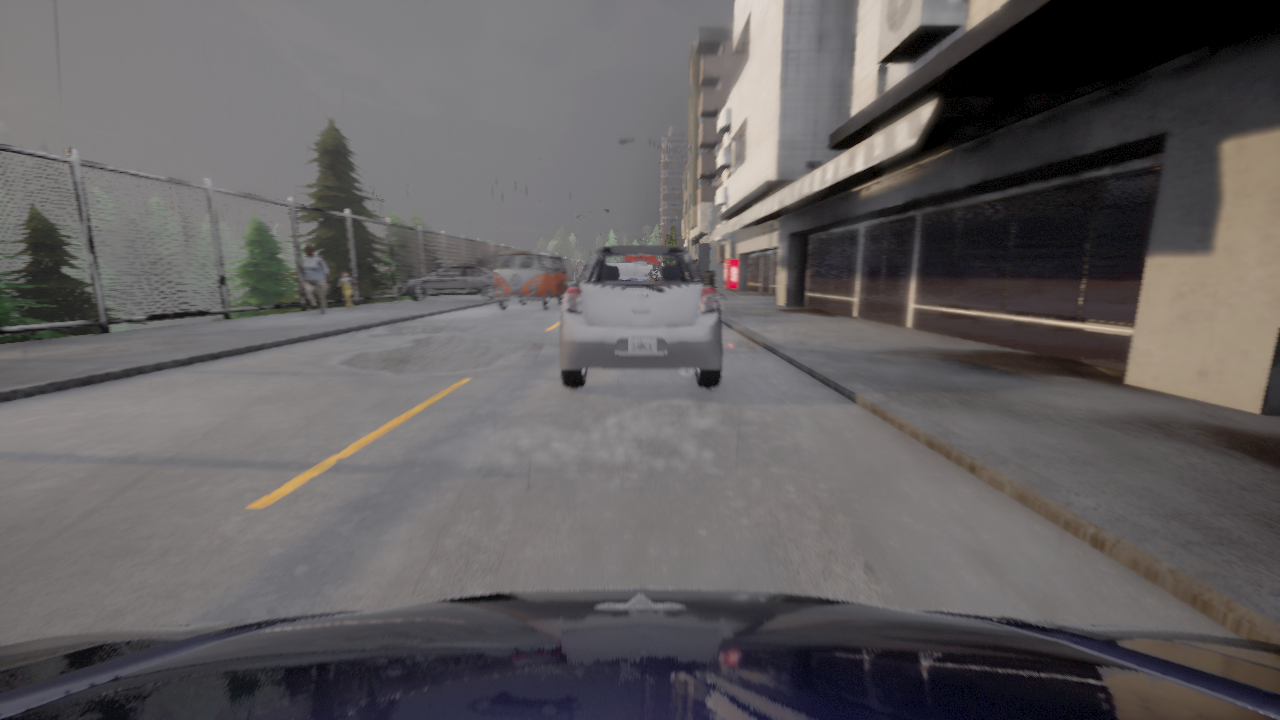cyclist: (0, 588, 1279, 719), (558, 246, 723, 388), (490, 250, 566, 309), (397, 265, 494, 301)
pedestrian: (301, 246, 329, 314), (338, 270, 356, 308)
